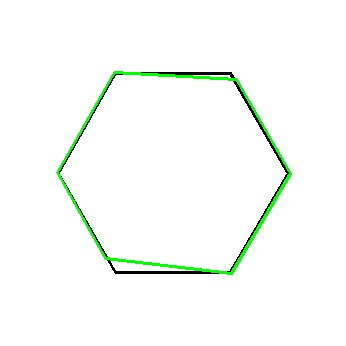line_segment: (57, 71, 291, 275)
